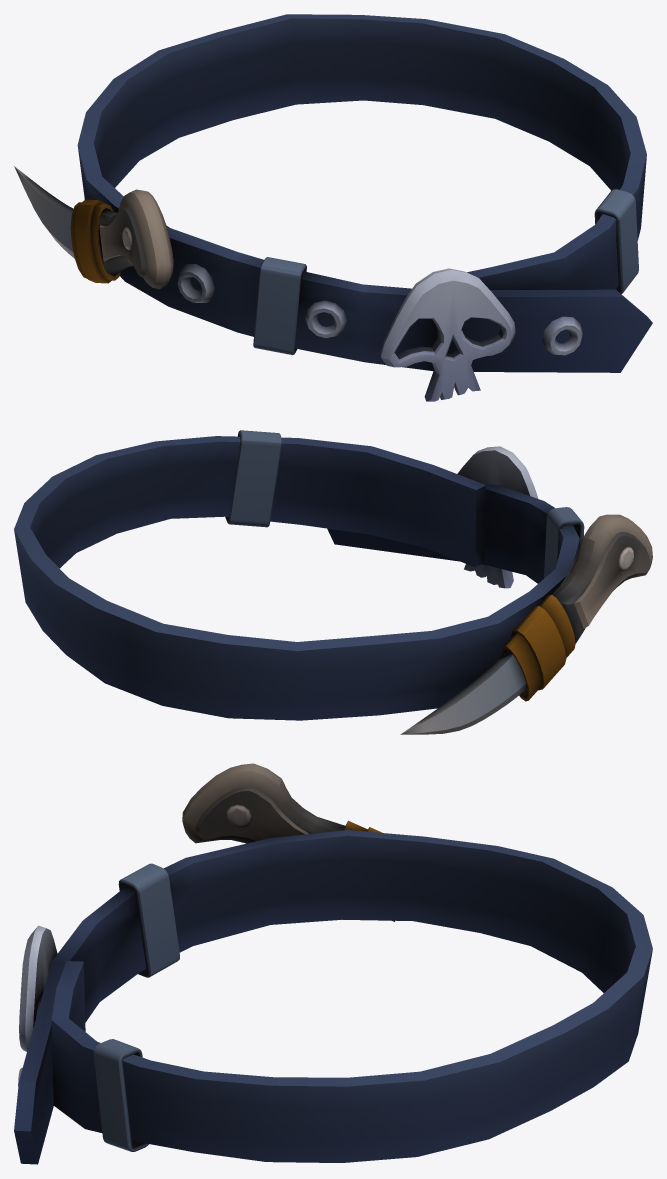
The model's file is Belt_Skull_Belt.gltf.
The picture shows the model from 3 angles, top to bottom: view 1: azimuth 30°, elevation 25°; view 2: azimuth 150°, elevation 25°; view 3: azimuth 270°, elevation 25°; orthographic projection. The views are drawn at different scales.
Visible parts, largest first — view 1: Belt_Skull_Belt; view 2: Belt_Skull_Belt; view 3: Belt_Skull_Belt.
Part boxes in pixels (x1,y1,x2,y2): Belt_Skull_Belt: (14, 14, 652, 401); Belt_Skull_Belt: (14, 430, 652, 734); Belt_Skull_Belt: (14, 763, 652, 1164).
Size of the model in its own units: 0.8653 by 0.2989 by 0.8407.
2 materials, 2 textured.
